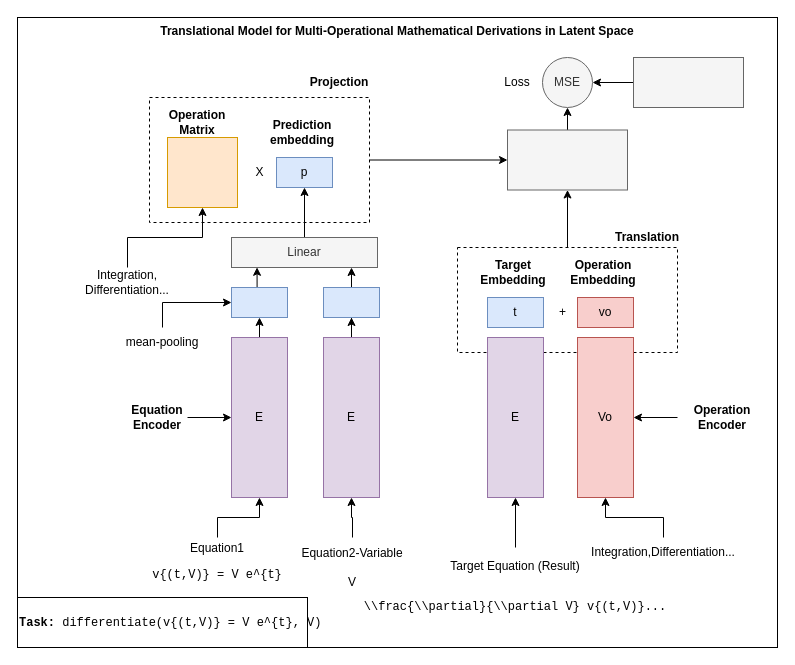
This 795x665 diagram has some shape labels left out. The centre of each missing label's shape, as x and y in pixels:
Cosine Distance: (567,159)
e1: (259,302)
e2: (351,302)
Label (Positive/Negative): (688,82)
Wo: (202,172)
